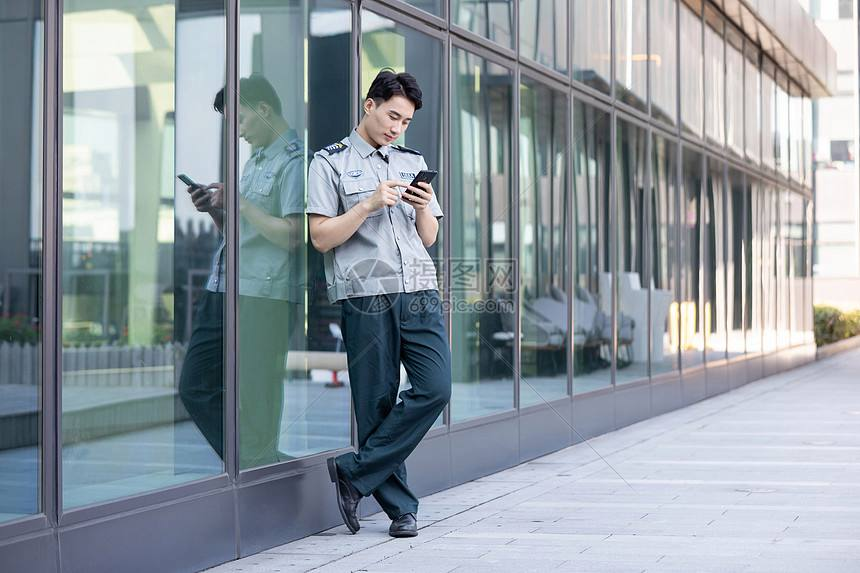reading: (363, 166, 440, 216)
